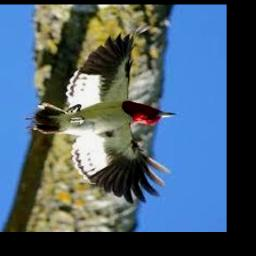Woodpecker: (27, 27, 176, 204)
